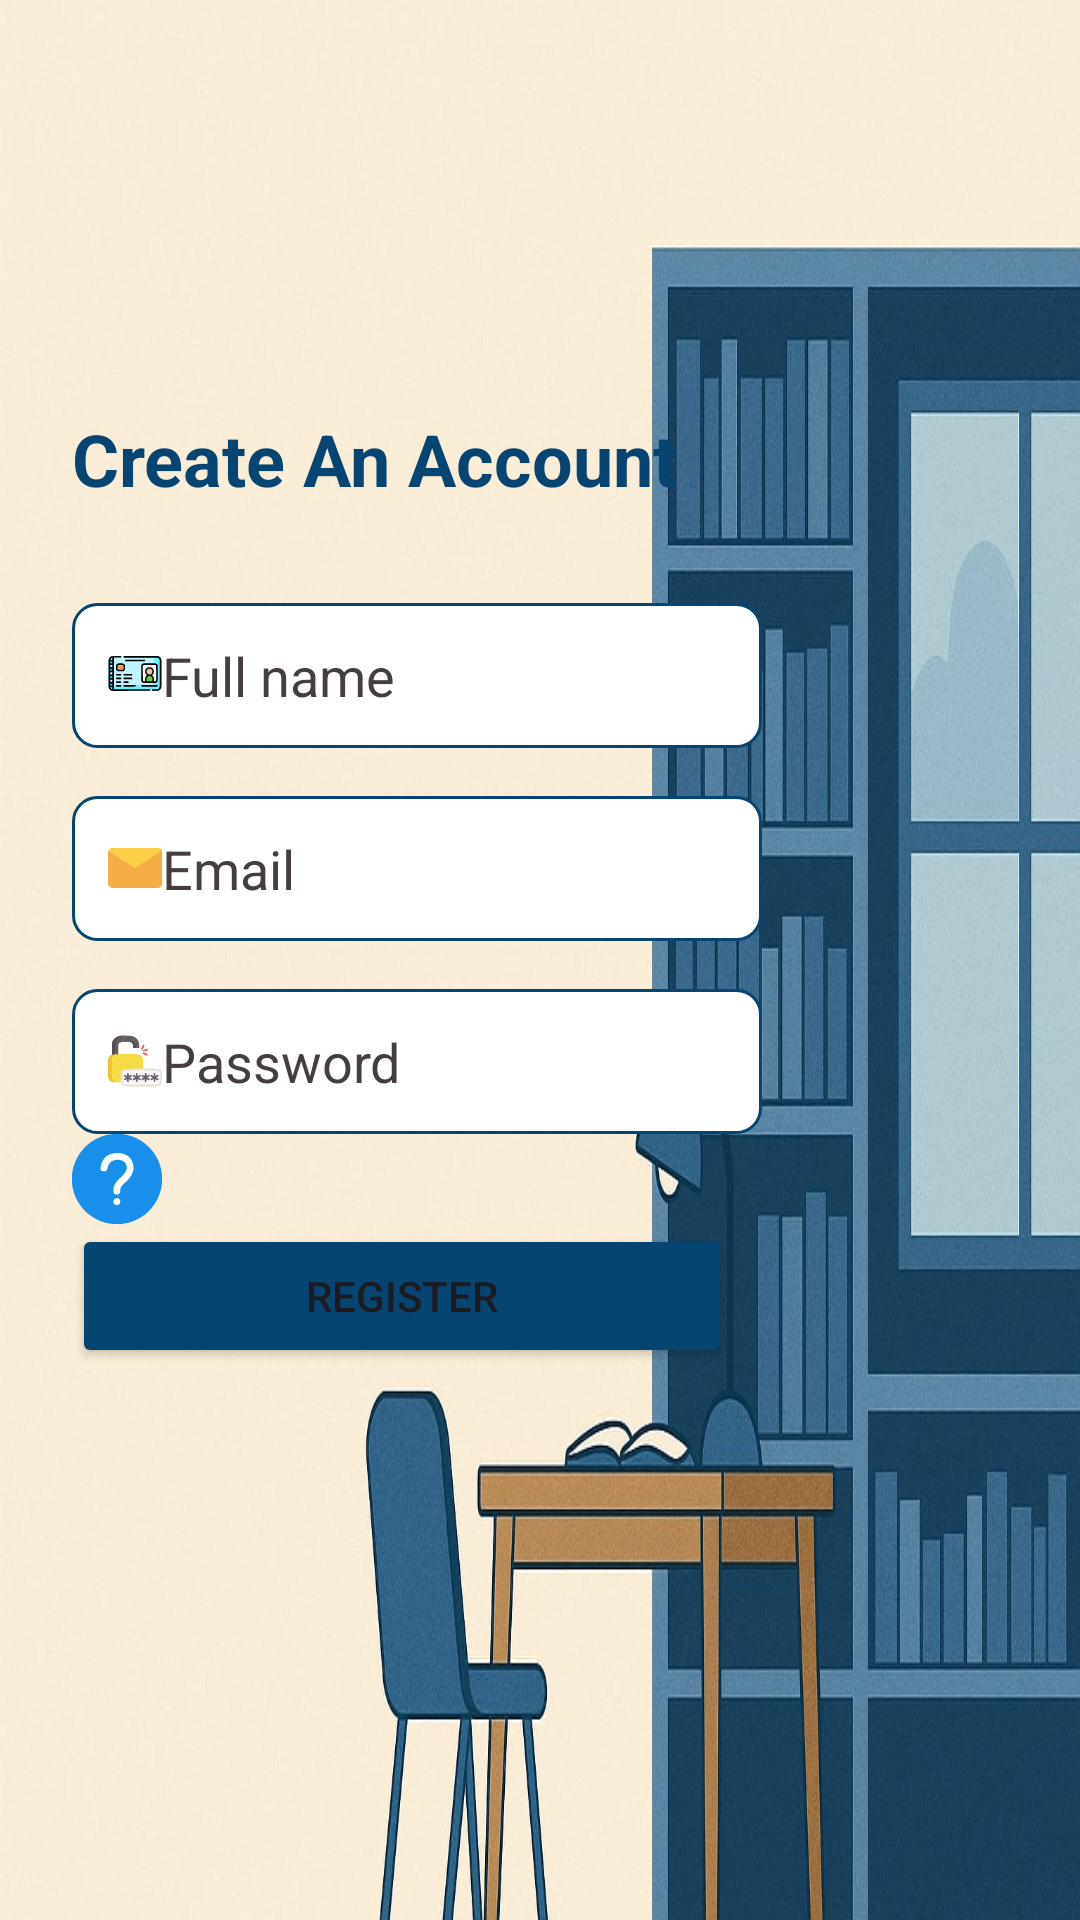

Named icons in this screenshot (1080x1920) and their centers, [x,y]:
question mark: [117,1179]
